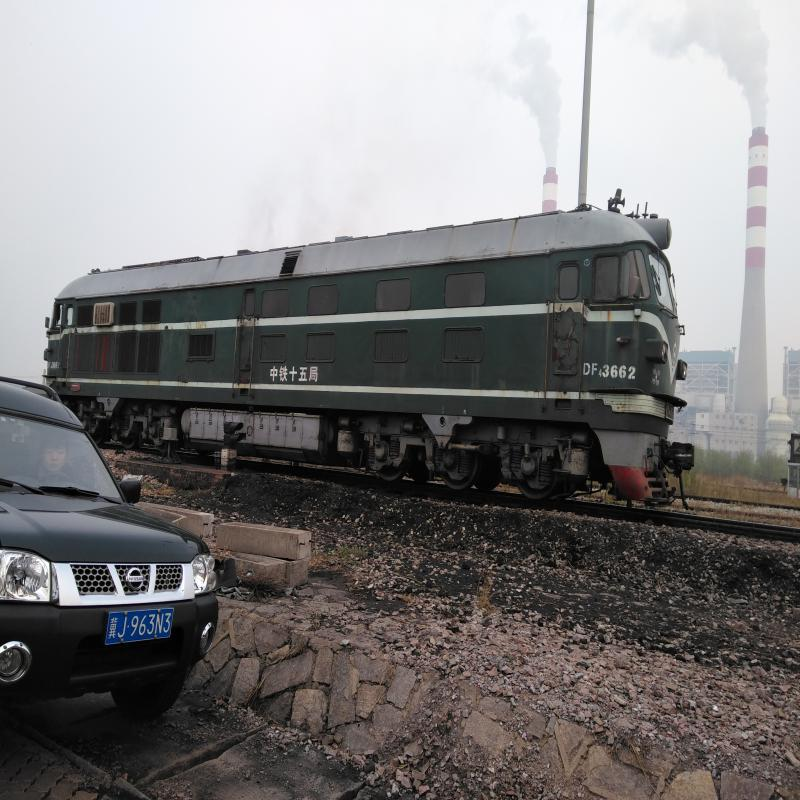train: (56, 233, 695, 461)
